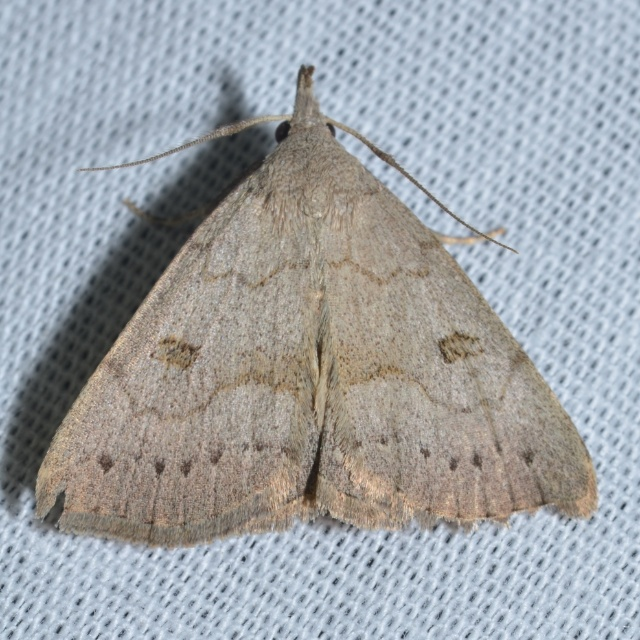Moths and butterflies: (23, 55, 612, 559)
